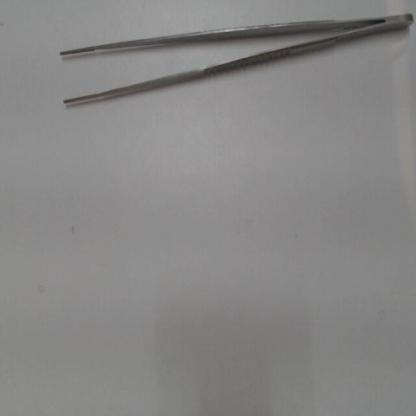DeBakey Dissector: (44, 9, 414, 121)
